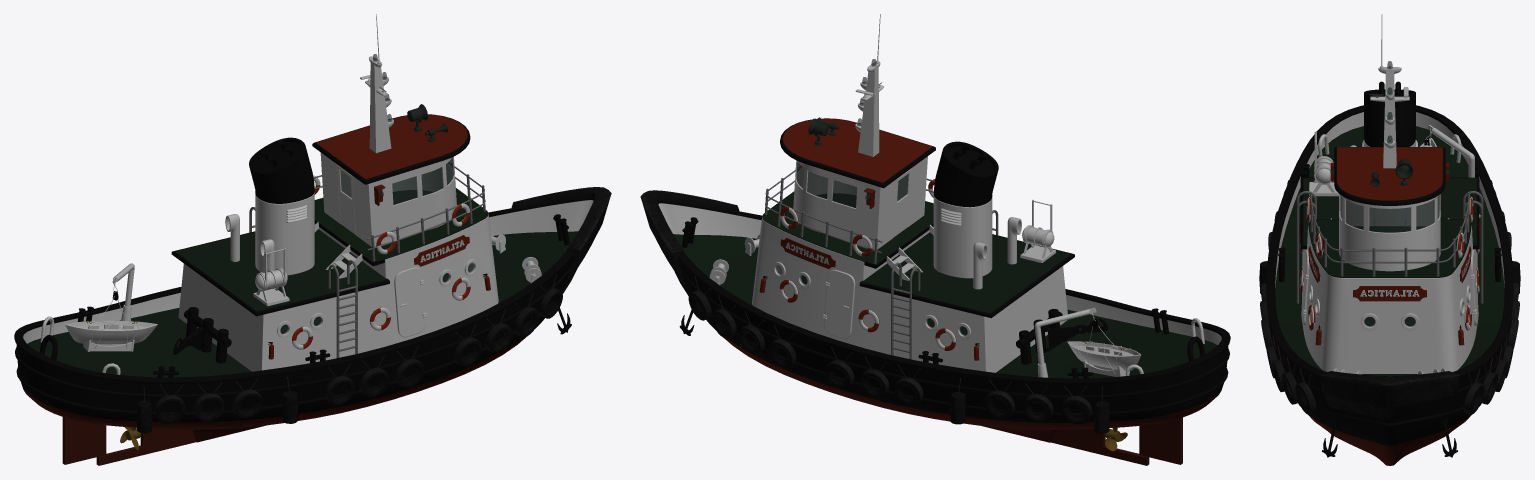
The model's file is barco.obj.
The picture shows the model from 3 angles, left to right: view 1: azimuth 30°, elevation 25°; view 2: azimuth 150°, elevation 25°; view 3: azimuth 270°, elevation 25°; orthographic projection. The views are drawn at different scales.
Parts seen in each view (by area): view 1: 12219_boat_v2_L2; view 2: 12219_boat_v2_L2; view 3: 12219_boat_v2_L2.
Boxes of the visible parts, box(x1,y1,x2,y2) form: 12219_boat_v2_L2: box(14, 14, 611, 465); 12219_boat_v2_L2: box(640, 14, 1230, 465); 12219_boat_v2_L2: box(1259, 14, 1520, 465).
Bounding box in the file's own units: 66.22 × 41.91 × 24.3.
